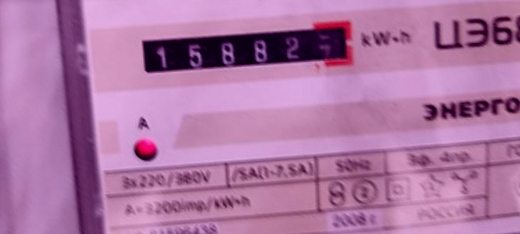1: (154, 44, 170, 70)
2: (284, 34, 301, 59)
5: (186, 41, 204, 68)
7: (318, 40, 333, 60)
8: (219, 40, 237, 67), (252, 37, 269, 63)
screen: (127, 11, 364, 88)
